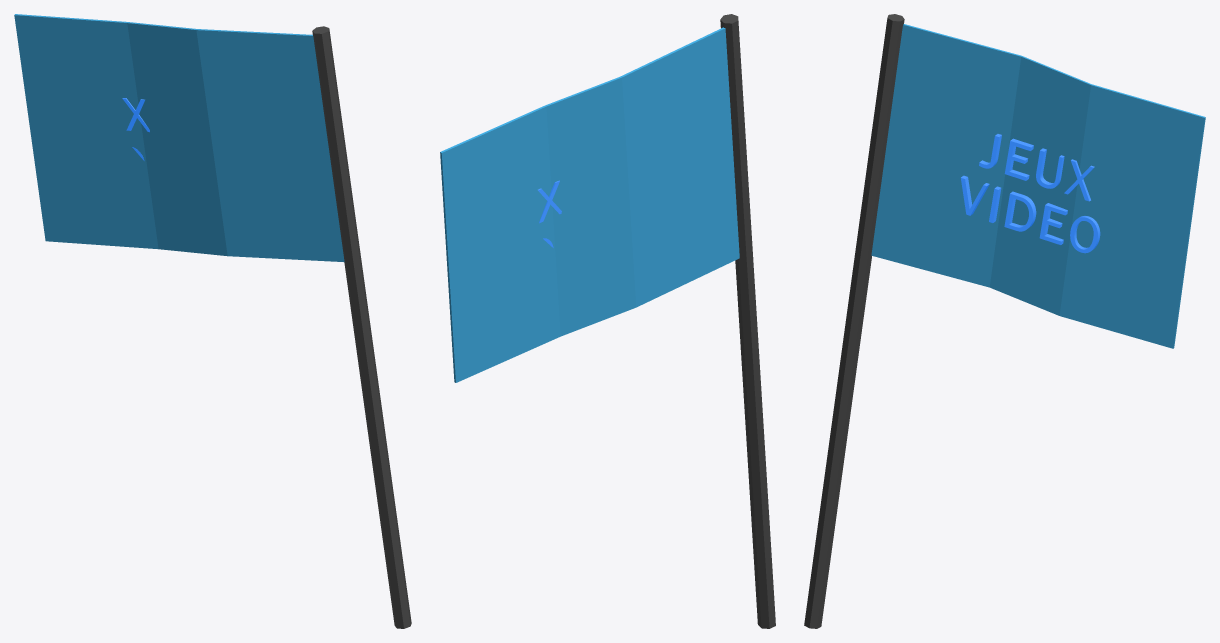
Rendered from drapeau.FBX.
The picture shows the model from 3 angles, left to right: view 1: azimuth 90°, elevation 25°; view 2: azimuth 150°, elevation 25°; view 3: azimuth 270°, elevation 25°; orthographic projection. The views are drawn at different scales.
Parts seen in each view (by area): view 1: Plane001; view 2: Plane001; view 3: Plane001.
Boxes of the visible parts, x1,y1,x2,y2 form: Plane001: (14,14,411,628); Plane001: (440,14,775,628); Plane001: (804,14,1205,628).
Bounding box in the file's own units: 35.9 × 96.45 × 161.
